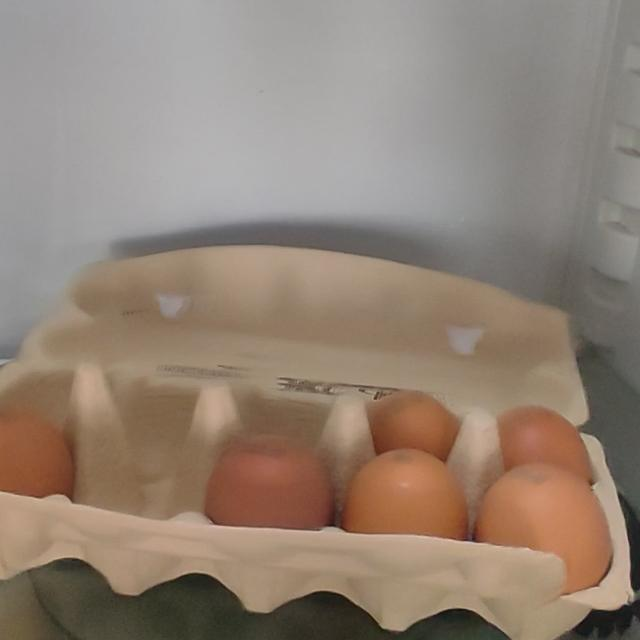egg: (0, 226, 620, 640)
